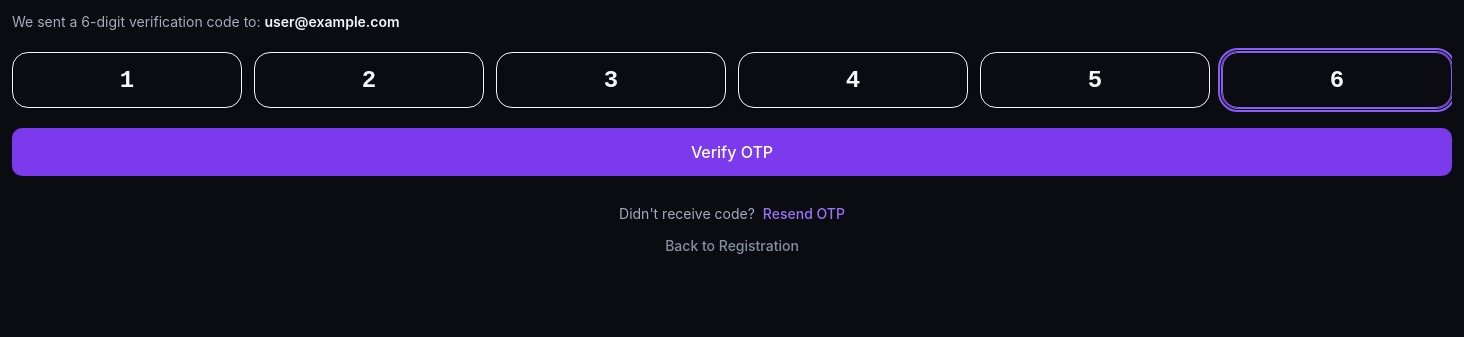
Test: resends only after cooldown and starts a fresh cooldown
Click the button "Resend OTP". click: (804,214)
box: [763,204,845,224]
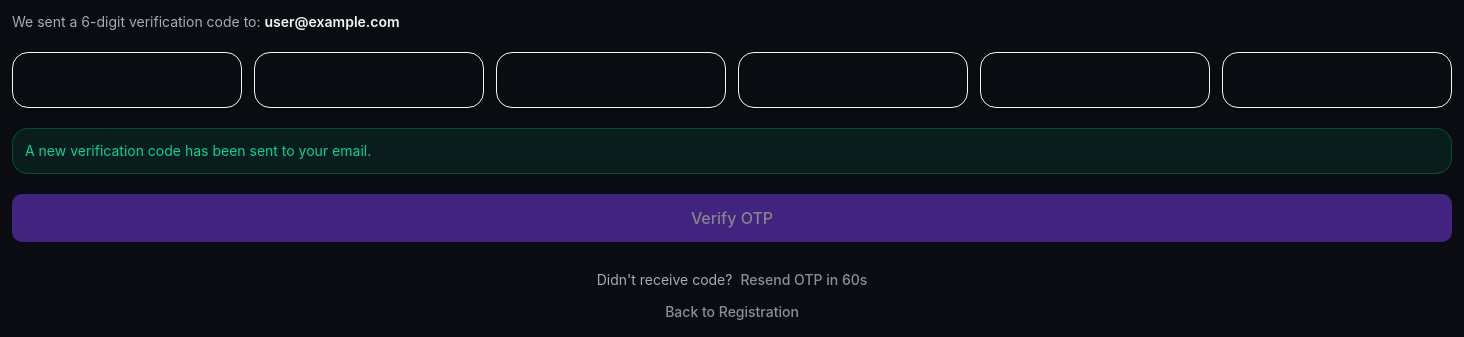
Expected: the field named "Digit 1 of 6" is empty, [12,52,242,108]
Expected: the button "Resend OTP in 60s" is disabled, [740,270,867,290]
